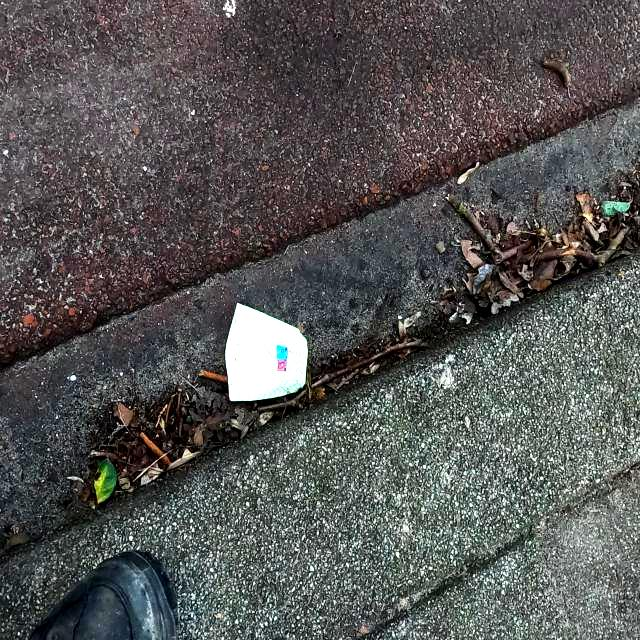Coffee Cup: (220, 299, 310, 405)
